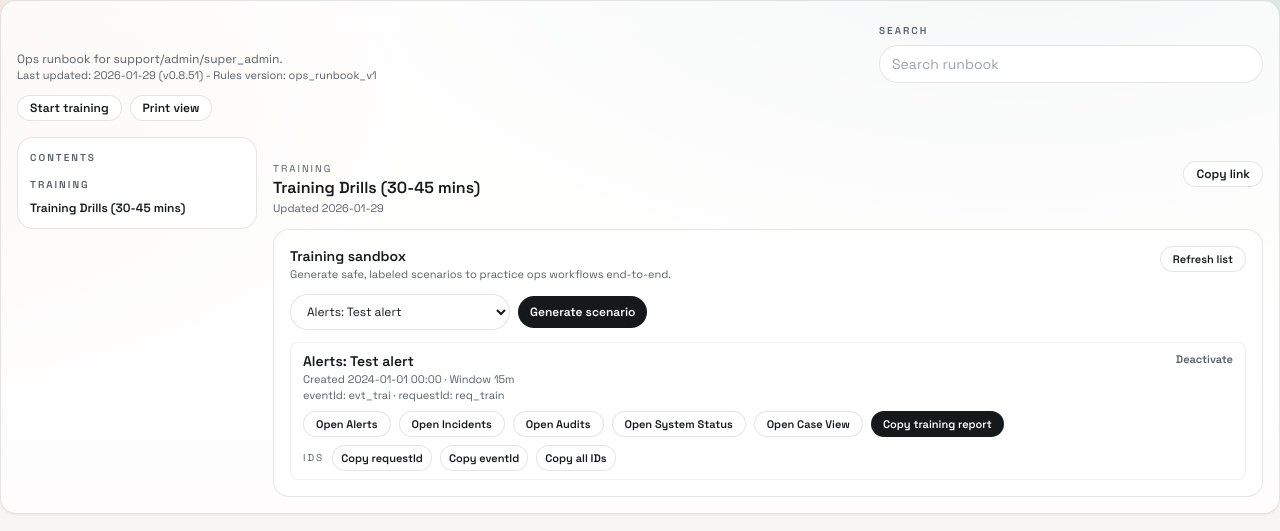
ops help training sandbox ui › preserves last-good list on refresh failure
Click the button "Refresh list" at (1203, 259), box x1=1160 y1=246 x2=1246 y2=272
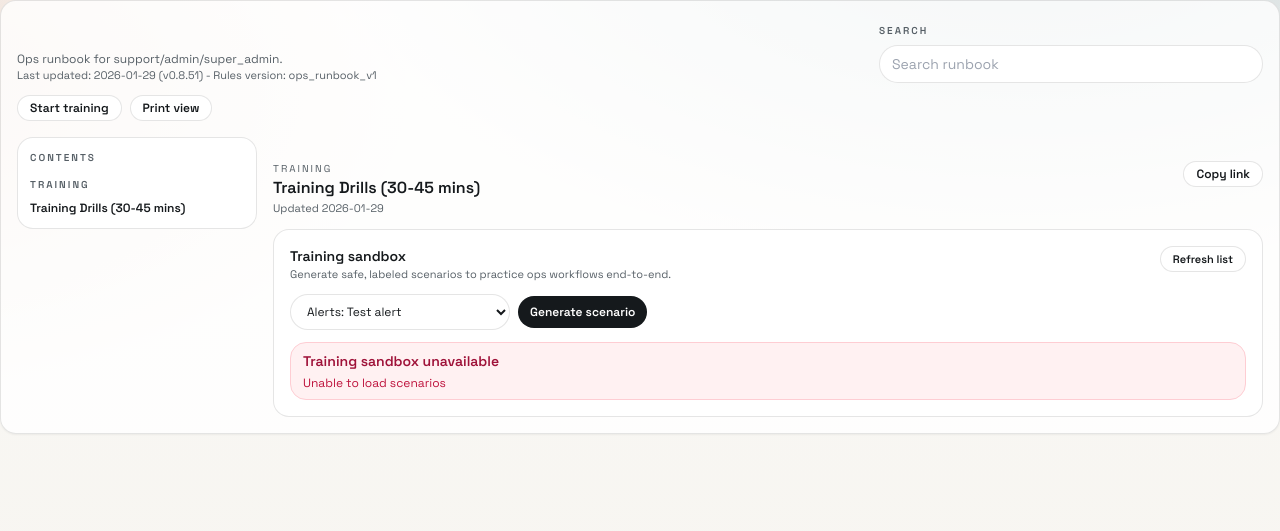
Result: the text "Training sandbox unavailable" is shown at x1=303 y1=351 x2=499 y2=371
